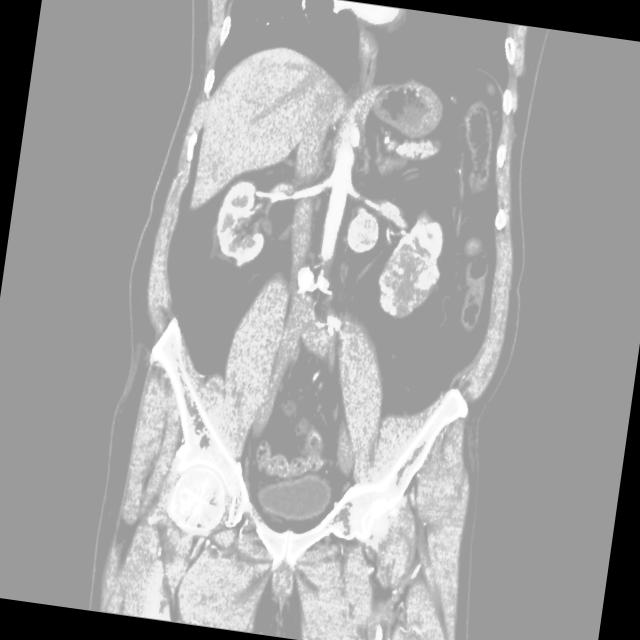TUMOR: (169, 124, 508, 358)
